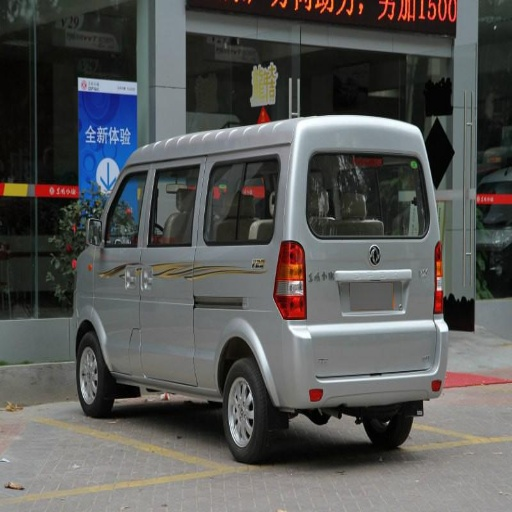back_bumper: (272, 319, 444, 406)
back_left_light: (273, 242, 306, 319)
trunk: (144, 252, 297, 394), (284, 242, 436, 376)
